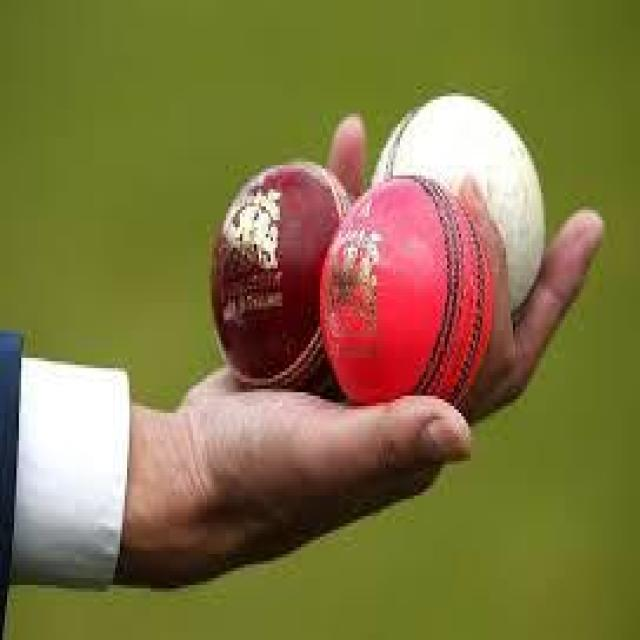ball: (322, 179, 497, 430), (372, 96, 546, 324), (212, 162, 351, 392)
